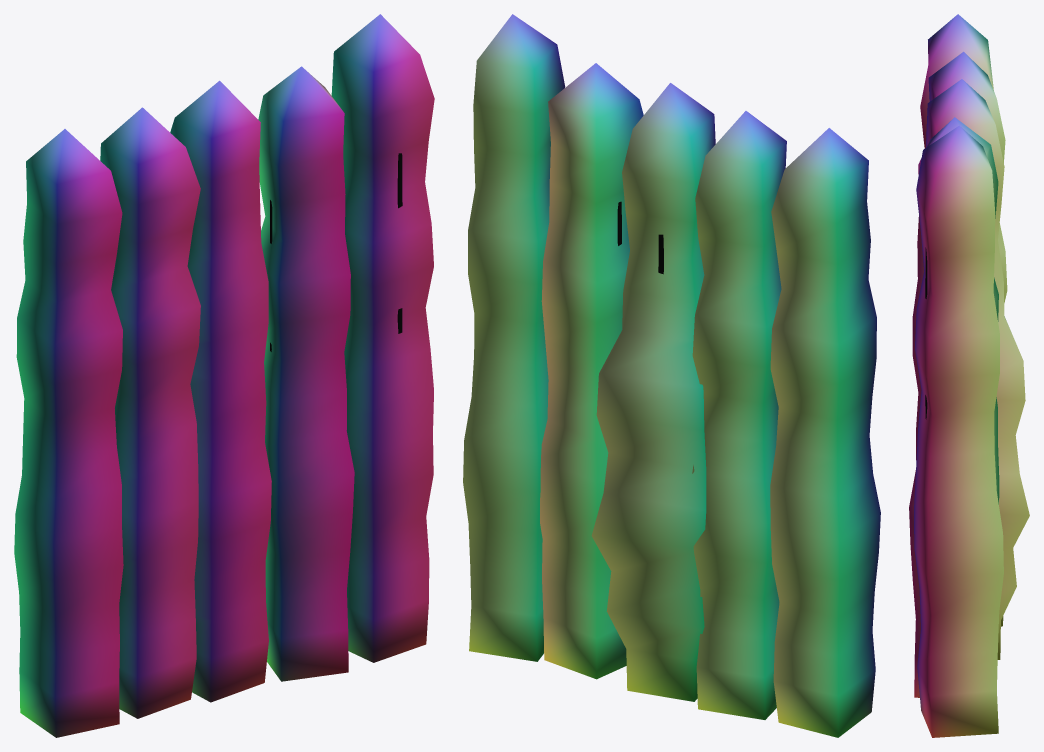
Rendered from SM_Palisade_Plains_Straight.fbx.
3 renders of one model, left to right at view 1: azimuth 30°, elevation 25°; view 2: azimuth 150°, elevation 25°; view 3: azimuth 270°, elevation 25°, orthographic. The views are drawn at different scales.
Parts seen in each view (by area): view 1: SM_Palisade_Plains_Straight; view 2: SM_Palisade_Plains_Straight; view 3: SM_Palisade_Plains_Straight.
Part boxes in pixels (bbox=[...]): SM_Palisade_Plains_Straight: bbox=[14, 14, 434, 737]; SM_Palisade_Plains_Straight: bbox=[463, 14, 880, 737]; SM_Palisade_Plains_Straight: bbox=[909, 14, 1029, 737].
Size of the model in its own units: 0.9622 by 1.5 by 0.2747.
